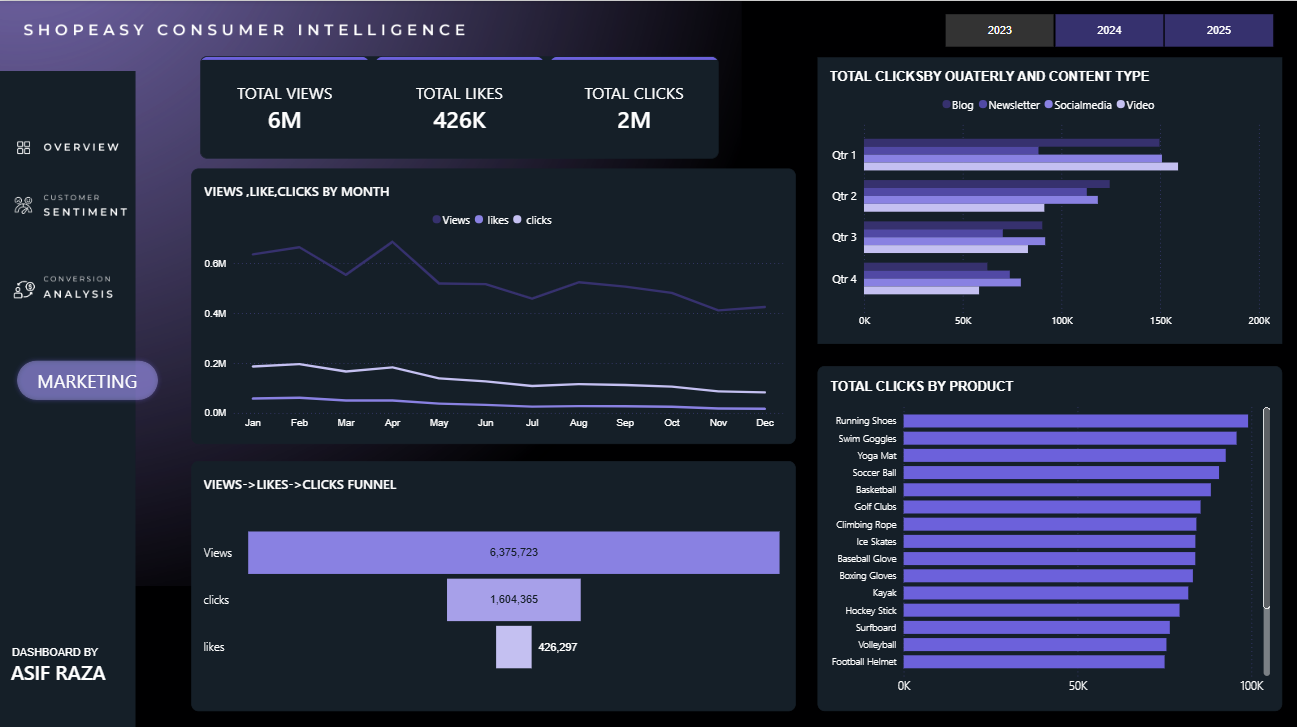

The dashboard page shown, as its layout file describes it:
{"tool":"powerbi","page":{"name":"Marketing Performance","canvas":[1600,900],"ordinal":3},"visuals":[{"type":"shape","box":[234.7,566,743.9,308.3],"z":0},{"type":"cardVisual","fields":{"Data":["Sum(engagement_data_cleaned.Views)","Sum(engagement_data_cleaned.likes)","Sum(engagement_data_cleaned.clicks)"]},"box":[246.7,68.3,638.3,126.7],"z":1000},{"type":"lineChart","title":"VIEWS ,LIKE,CLICKS BY MONTH","fields":{"Y":["Sum(engagement_data_cleaned.Views)","Sum(engagement_data_cleaned.likes)","Sum(engagement_data_cleaned.clicks)"],"Category":["Calendar.MonthNameShort"]},"box":[234.7,205.5,743.9,339],"z":2000},{"type":"funnel","title":"VIEWS->LIKES->CLICKS FUNNEL","fields":{"Y":["Sum(engagement_data_cleaned.Views)","Sum(engagement_data_cleaned.likes)","Sum(engagement_data_cleaned.clicks)"]},"box":[234.7,567.5,743.9,306.8],"z":3000},{"type":"barChart","title":"TOTAL CLICKS BY PRODUCT","fields":{"Y":["Sum(engagement_data_cleaned.clicks)"],"Category":["products.ProductName"]},"box":[1006.1,449.4,572.1,424.8],"z":4000},{"type":"clusteredBarChart","title":"TOTAL CLICKSBY OUATERLY AND CONTENT TYPE ","fields":{"Category":["Calendar.Date.Variation.Date Hierarchy.Quarter"],"Y":["Sum(engagement_data_cleaned.clicks)"],"Series":["engagement_data_cleaned.ContentType"]},"box":[1006.1,69,572.1,352.8],"z":5000},{"type":"shape","box":[0,416.7,158.3,150],"z":6000},{"type":"shape","box":[0,421.7,215,90],"z":7000},{"type":"pageNavigator","box":[0,205,183.3,100],"z":8000},{"type":"pageNavigator","box":[0,305,183.3,100],"z":9000},{"type":"pageNavigator","box":[0,131.7,183.3,100],"z":10000},{"type":"slicer","fields":{"Values":["Calendar.Date.Variation.Date Hierarchy.Year"]},"box":[1142.6,13.1,442.6,44.3],"z":11000},{"type":"textbox","box":[0,794.5,158,66],"z":12000}]}

Visuals, with their boxes in screenshot pixels (x1, y1, x2, y2), scaled from the page's 1600x900 canvas onto the 1297x727 screenshot:
shape: [190,457,793,706]
cardVisual - Sum(engagement_data_cleaned.Views) x Sum(engagement_data_cleaned.likes): [200,55,717,158]
"VIEWS ,LIKE,CLICKS BY MONTH" lineChart: [190,166,793,440]
"VIEWS->LIKES->CLICKS FUNNEL" funnel: [190,458,793,706]
"TOTAL CLICKS BY PRODUCT" barChart: [816,363,1279,706]
"TOTAL CLICKSBY OUATERLY AND CONTENT TYPE " clusteredBarChart: [816,56,1279,341]
shape: [0,337,128,458]
shape: [0,341,174,413]
pageNavigator: [0,166,149,246]
pageNavigator: [0,246,149,327]
pageNavigator: [0,106,149,187]
slicer - Calendar.Date.Variation.Date Hierarchy.Year: [926,11,1285,46]
textbox: [0,642,128,695]
